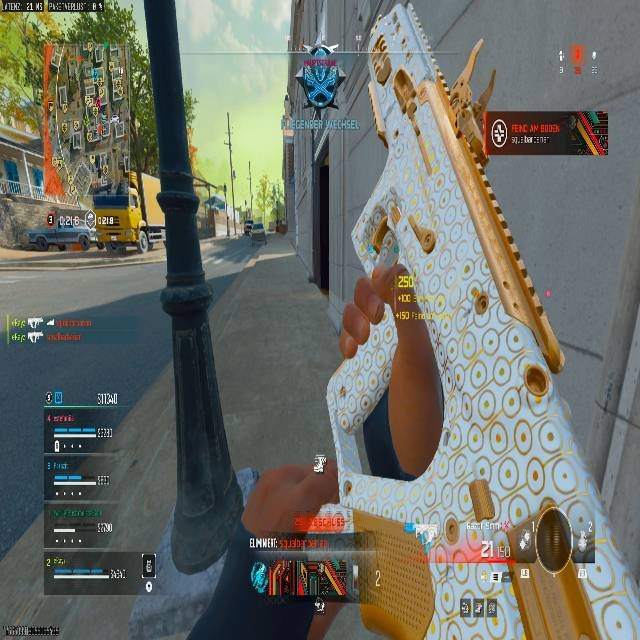player: (326, 189, 448, 495)
